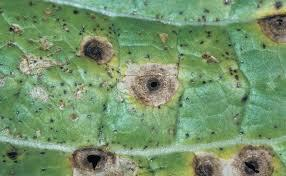Bok-Choy-Diseased: (1, 5, 286, 176)
